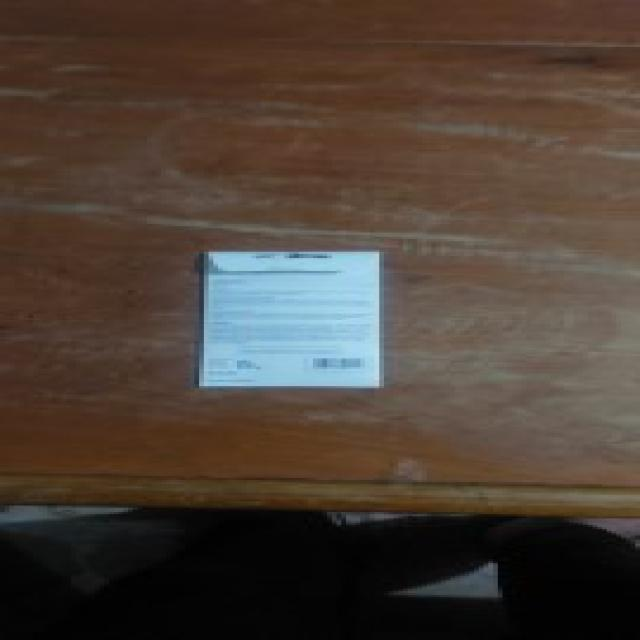Cacat: (197, 247, 379, 388)
